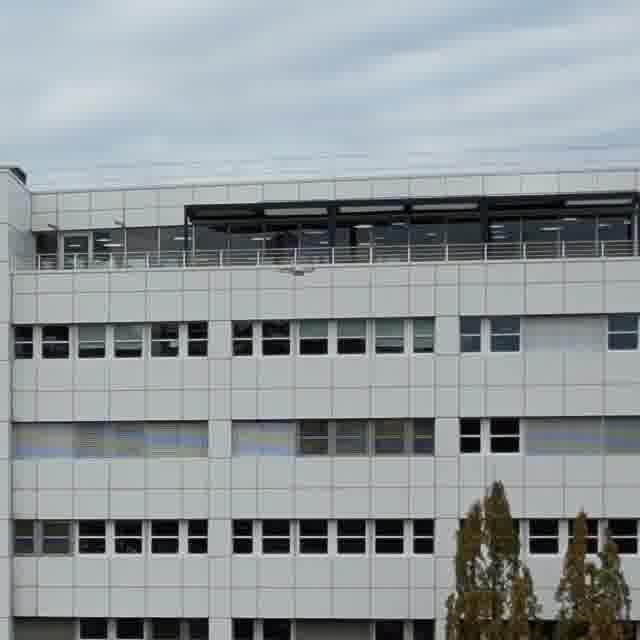Drohne: (278, 265, 314, 275)
